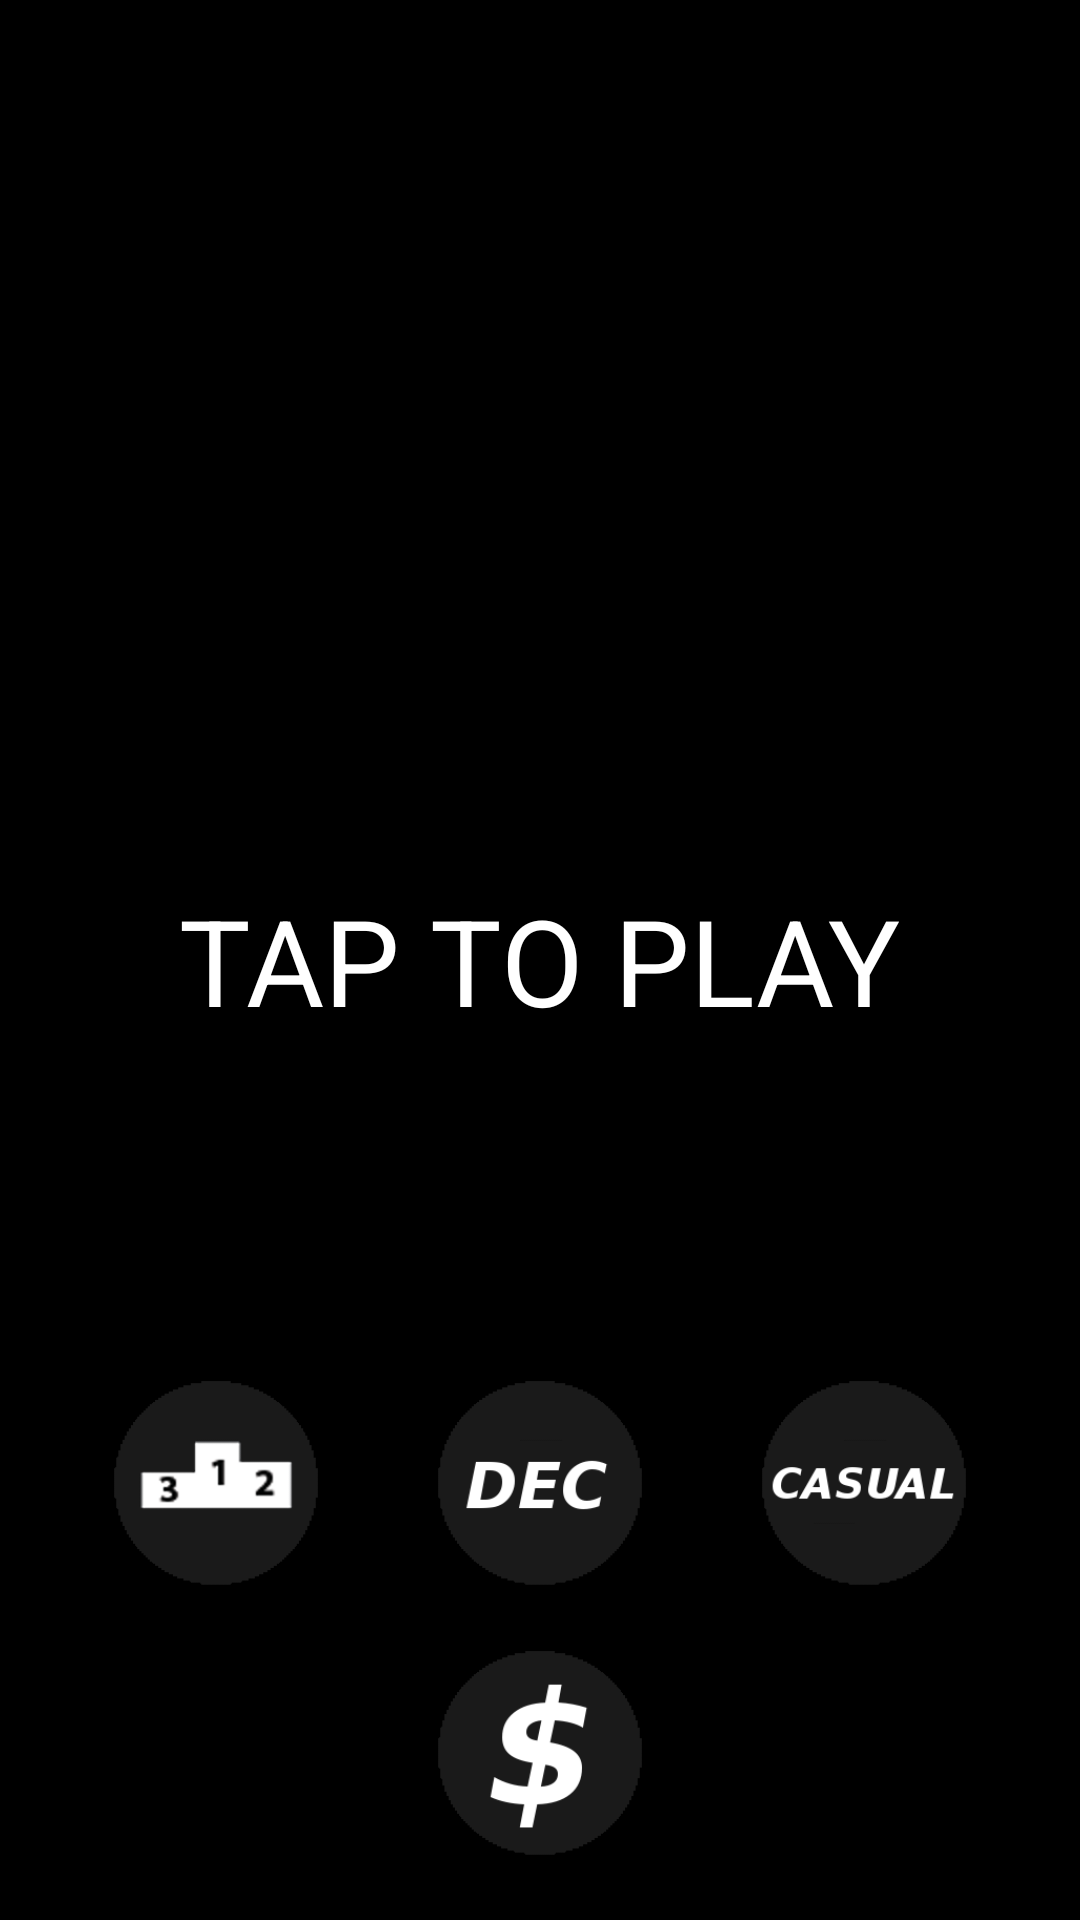

Icons on this 1080px x 1920px Android screen, each with its box as bbox=[x1, y1, x2, y2]:
donate: bbox=[439, 1652, 641, 1854]
leaderboard: bbox=[115, 1382, 317, 1584]
